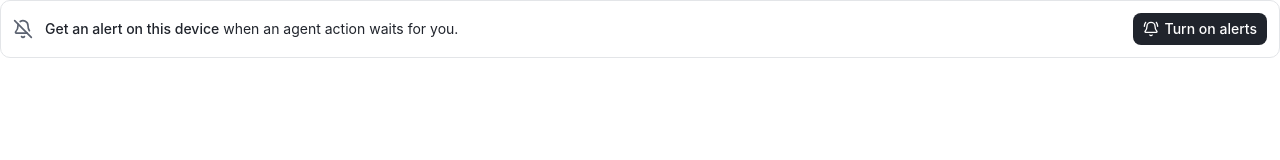
Test: alerts card (task 2.6) › turns alerts on, then sends a test and turns them off
The width and height of the screenshot is (1280, 160).
What coordinates should you click on to do the following:
click the button "Turn on alerts"
I would click on:
 (1200, 29)
Its box is x1=1133 y1=13 x2=1267 y2=45.
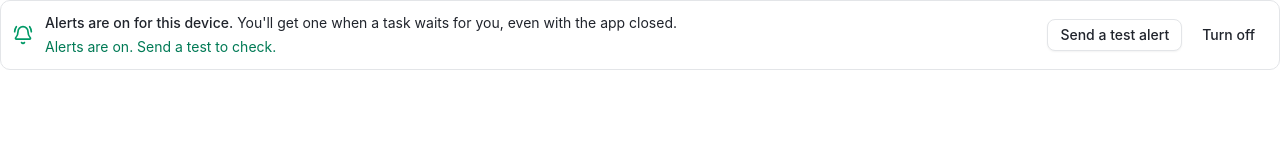
Check: the text "Alerts are on. Send a test to check." is shown, box x1=45 y1=38 x2=276 y2=55
Check: the element with test id "alerts-state" shows "Alerts are on for this device.", box x1=45 y1=14 x2=233 y2=31
What coordinates should you click on to do the following:
click the button "Send a test alert"
I would click on:
 (1115, 35)
Its box is x1=1047 y1=19 x2=1182 y2=51.
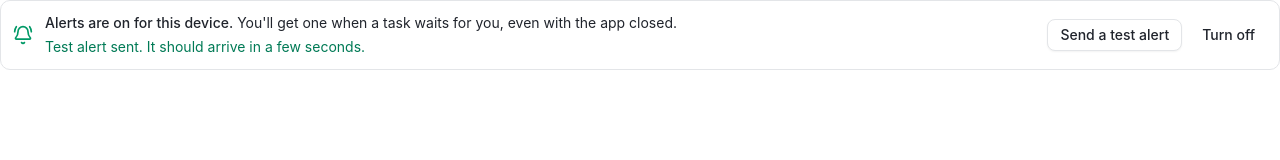
Check: the text "Test alert sent. It should arrive in a few seconds." is shown, box x1=45 y1=38 x2=365 y2=55
What coordinates should you click on to do the following:
click the button "Turn off"
I would click on:
 (1229, 35)
Its box is x1=1190 y1=19 x2=1267 y2=51.
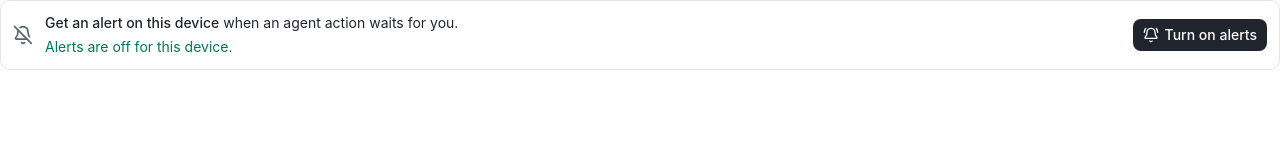
Check: the text "Alerts are off for this device." is shown, box x1=45 y1=38 x2=232 y2=55
